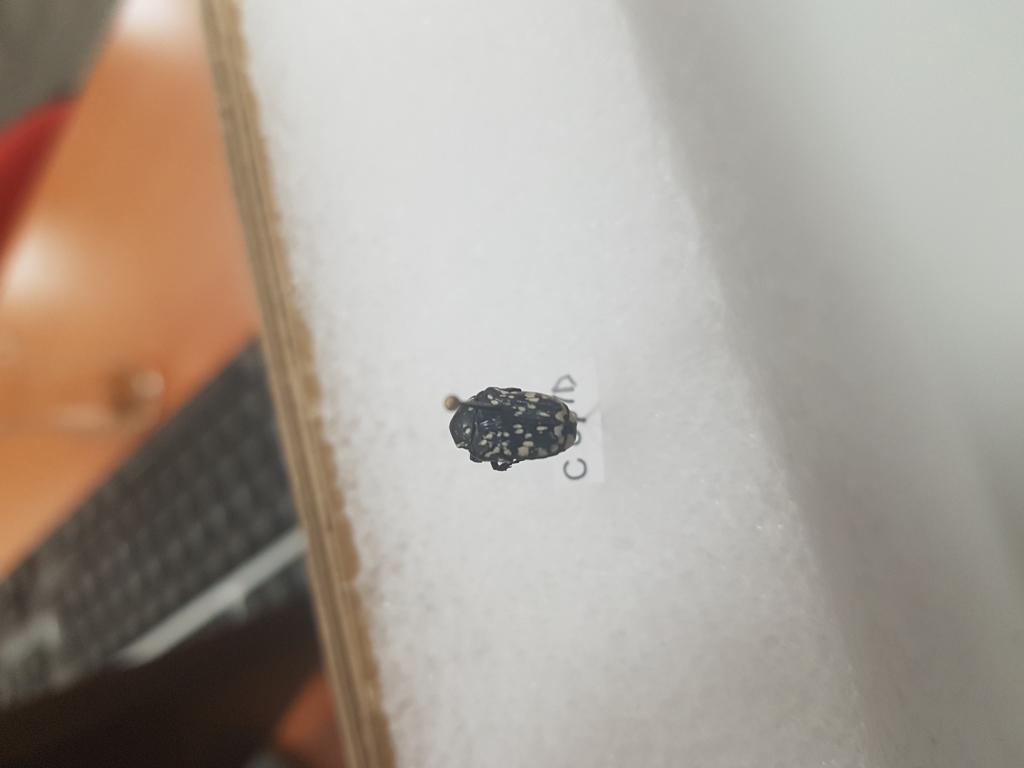Oxythyrea_albopicta: (442, 383, 595, 468)
